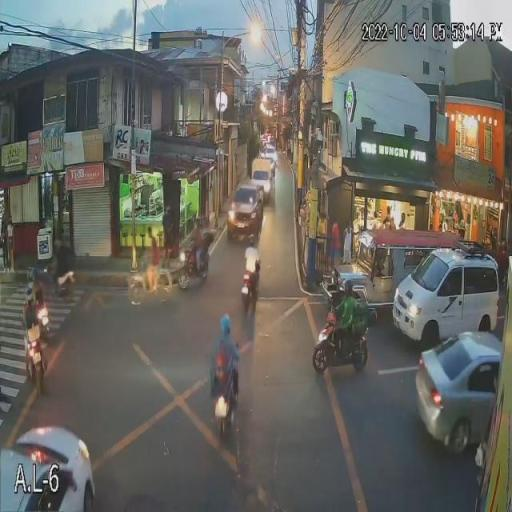helmet: (218, 316, 232, 341), (342, 279, 354, 299), (247, 232, 258, 248), (33, 270, 38, 286), (28, 266, 32, 283)
motorcycle: (312, 309, 369, 378), (20, 341, 52, 394), (210, 372, 236, 434), (238, 262, 261, 304), (33, 303, 49, 331)
rider: (213, 333, 236, 400), (19, 294, 38, 354), (337, 291, 354, 347), (244, 240, 259, 284), (32, 282, 44, 312), (27, 275, 31, 298)
